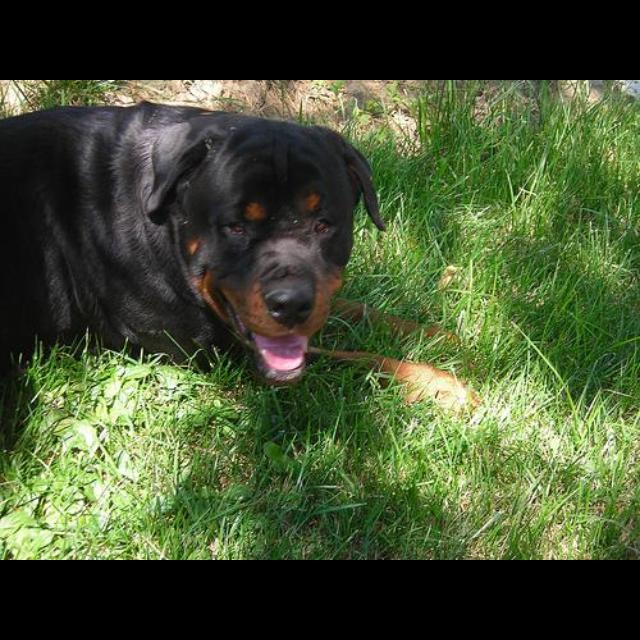rottweiler: (1, 101, 483, 419)
